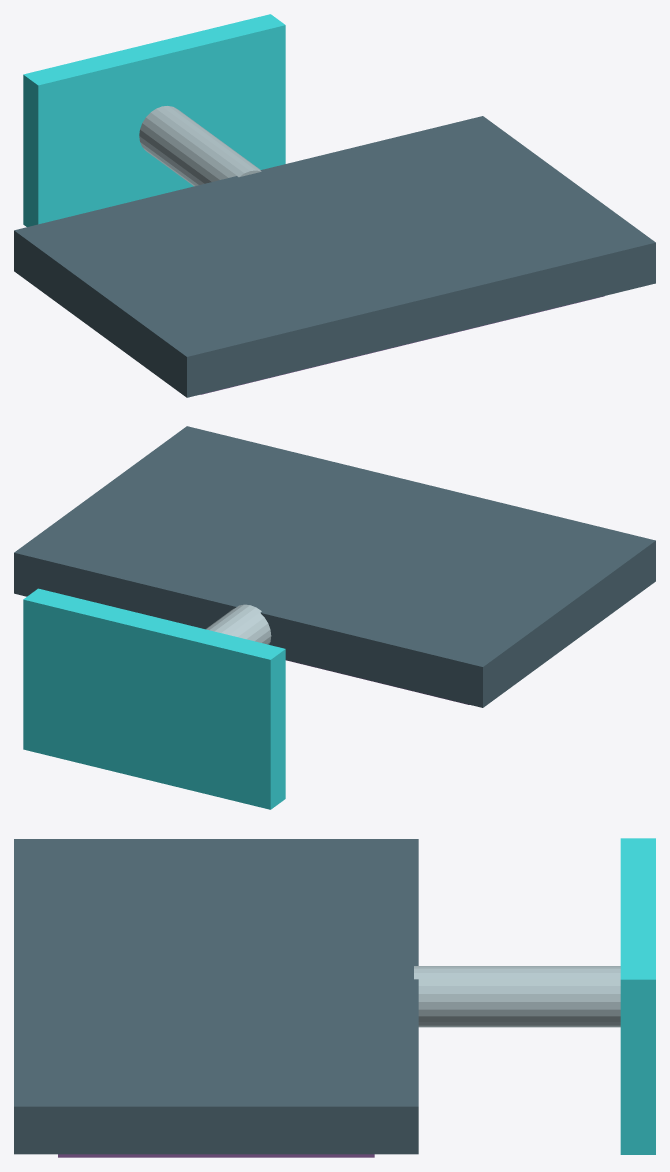
Rendered from monitor.glb.
3 views of the same model, one above another, from view 1: azimuth 30°, elevation 25°; view 2: azimuth 150°, elevation 25°; view 3: azimuth 270°, elevation 25° (orthographic). The views are drawn at different scales.
Parts seen in each view (by area): view 1: world; view 2: world; view 3: world.
Part boxes in pixels (x1,y1,x2,y2): world: (14,14,655,397); world: (14,426,655,809); world: (14,838,655,1157).
Size of the model in its own units: 0.72 by 0.22 by 0.73.
